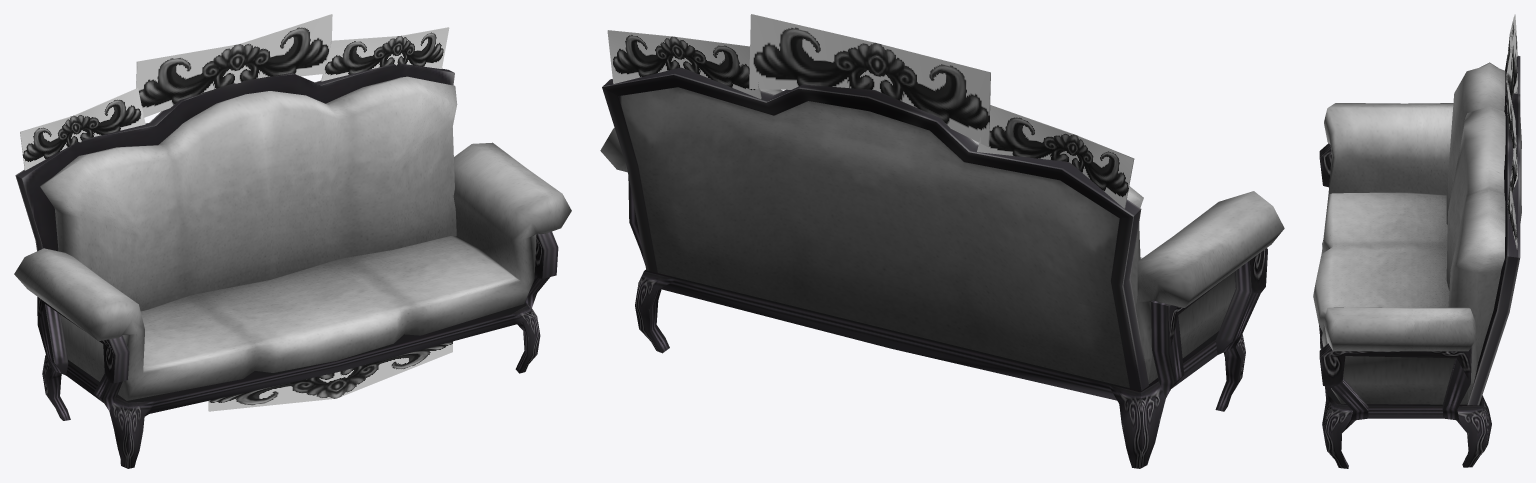
File: NienteSofa_HD.fbx
The picture shows the model from 3 angles, left to right: view 1: azimuth 30°, elevation 25°; view 2: azimuth 150°, elevation 25°; view 3: azimuth 270°, elevation 25°; orthographic projection. The views are drawn at different scales.
Visible parts, largest first — view 1: NienteSofa; view 2: NienteSofa; view 3: NienteSofa.
Boxes of the visible parts, <box> form: NienteSofa: <box>14,14,571,468</box>; NienteSofa: <box>600,14,1284,468</box>; NienteSofa: <box>1313,14,1521,468</box>.
Size of the model in its own units: 1.97 by 1.23 by 0.7715.
